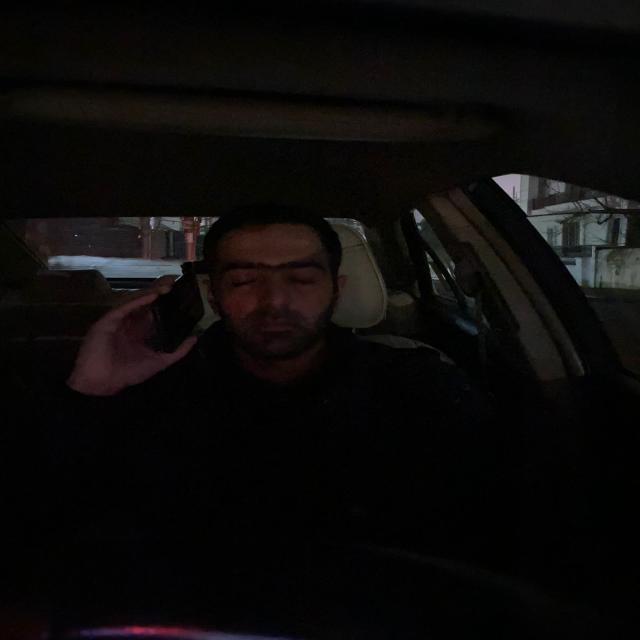phone: (151, 273, 205, 355)
